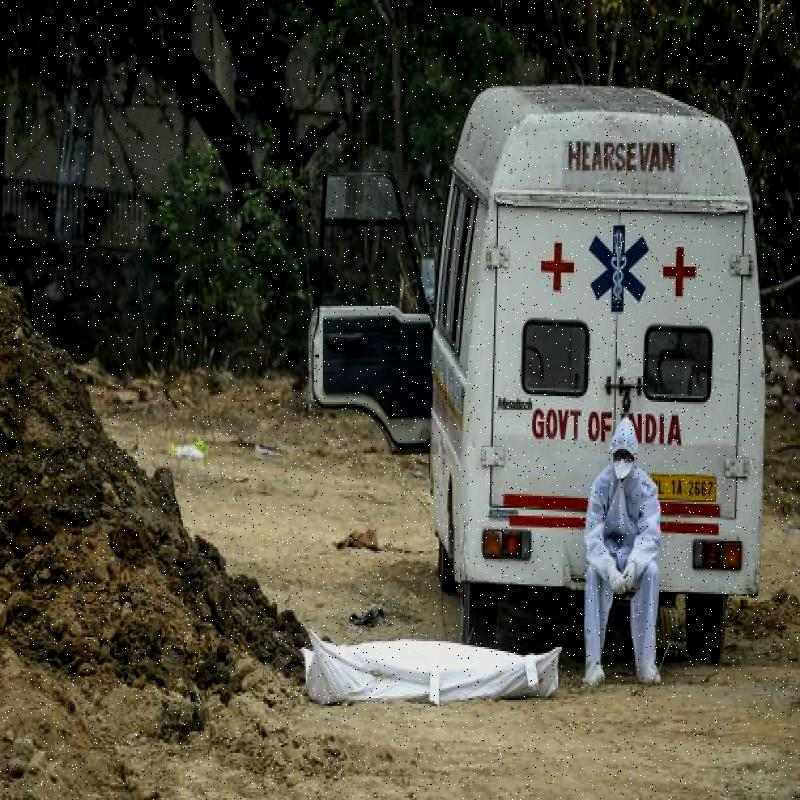ambulance: (412, 136, 715, 646)
